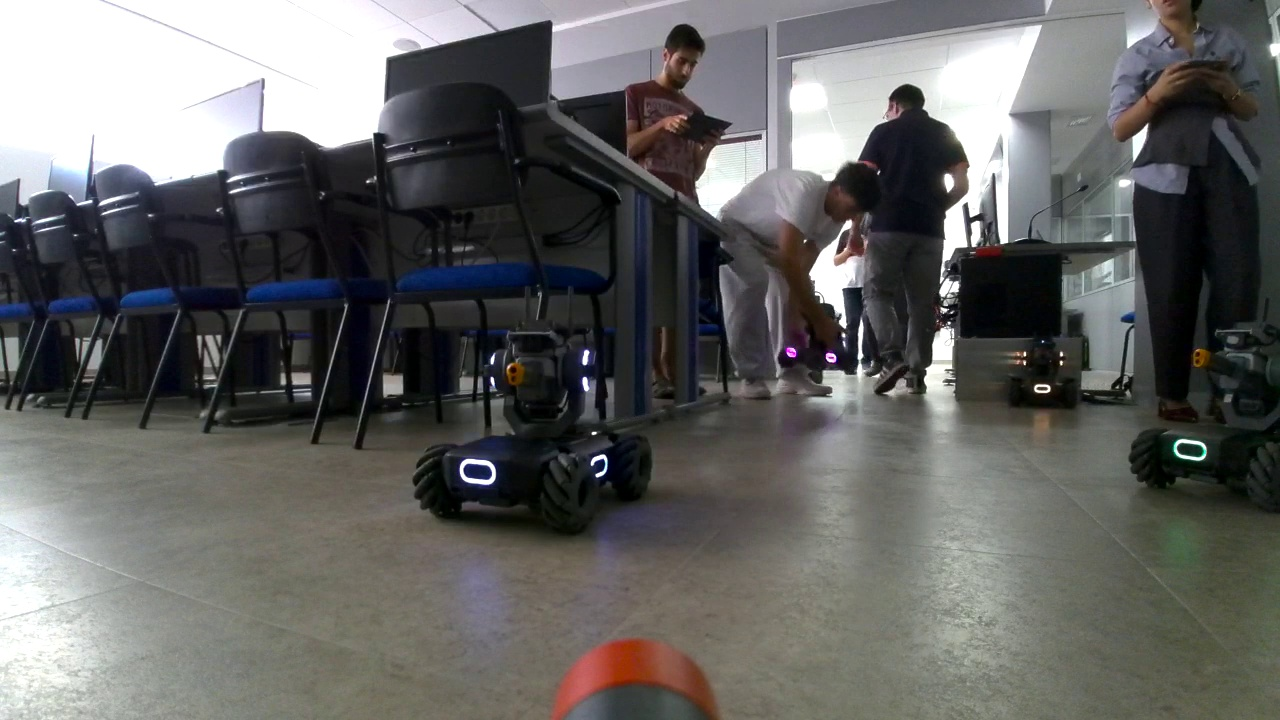robot: (413, 283, 652, 536), (1127, 298, 1280, 515), (1005, 334, 1079, 408), (778, 312, 858, 370)
